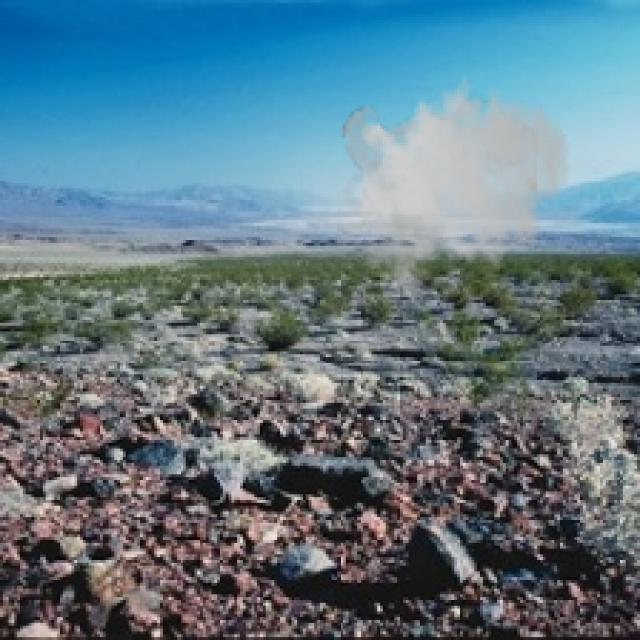smoke: (337, 66, 572, 294)
